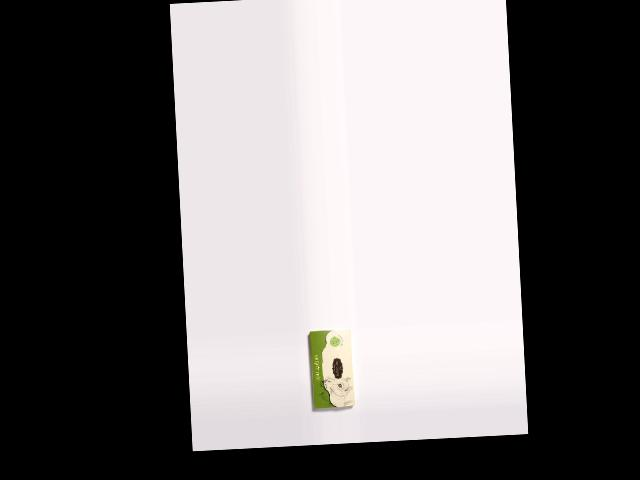chocolate: (308, 328, 356, 409)
